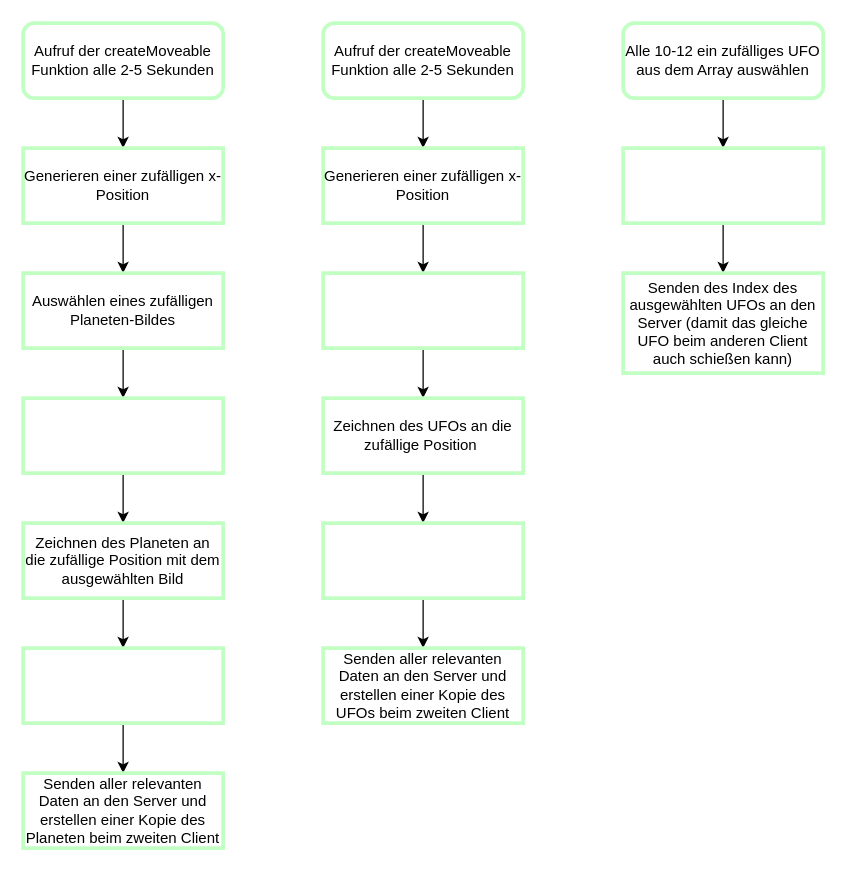
Image size: 846x871. Some labels were removed from this diagram. Each missing label, with the centre of its shape:
"Erstellen einer neuen Instanz der Planeten-Klasse" belongs at point (122, 435).
"Erstellen einer neuen Instanz der UFO-Klasse" belongs at point (422, 310).
"Pushen des Planeten in das Planeten-Array (zum Animieren)" belongs at point (122, 685).
"Pushen des UFOs in das UFO-Array (zum Animieren)" belongs at point (422, 560).
"UFO schießen lassen" belongs at point (722, 185).
